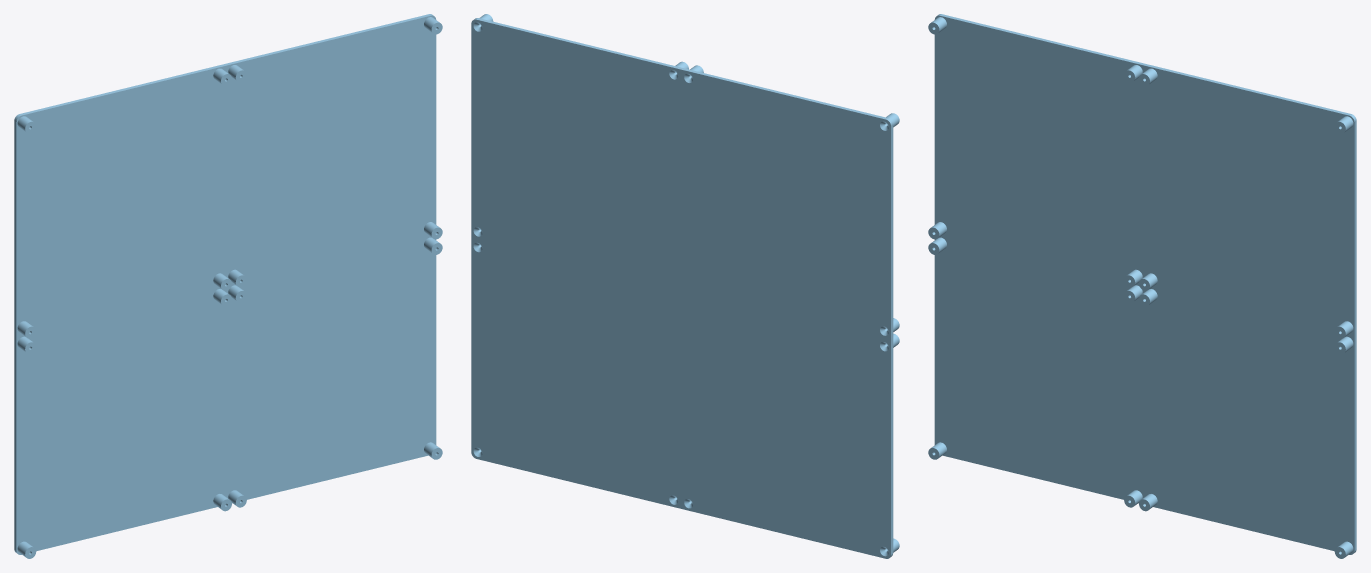
The model's file is Part_Studio_1_-_Dekl.glb.
3 renders of one model, left to right at view 1: azimuth 30°, elevation 25°; view 2: azimuth 150°, elevation 25°; view 3: azimuth 330°, elevation 25°, orthographic.
Visible parts, largest first — view 1: Dekl; view 2: Dekl; view 3: Dekl.
Part boxes in pixels (<box>): Dekl: <box>14,14,442,558</box>; Dekl: <box>471,14,899,558</box>; Dekl: <box>928,14,1356,558</box>.
Size of the model in its own units: 0.283 by 0.283 by 0.0113.
